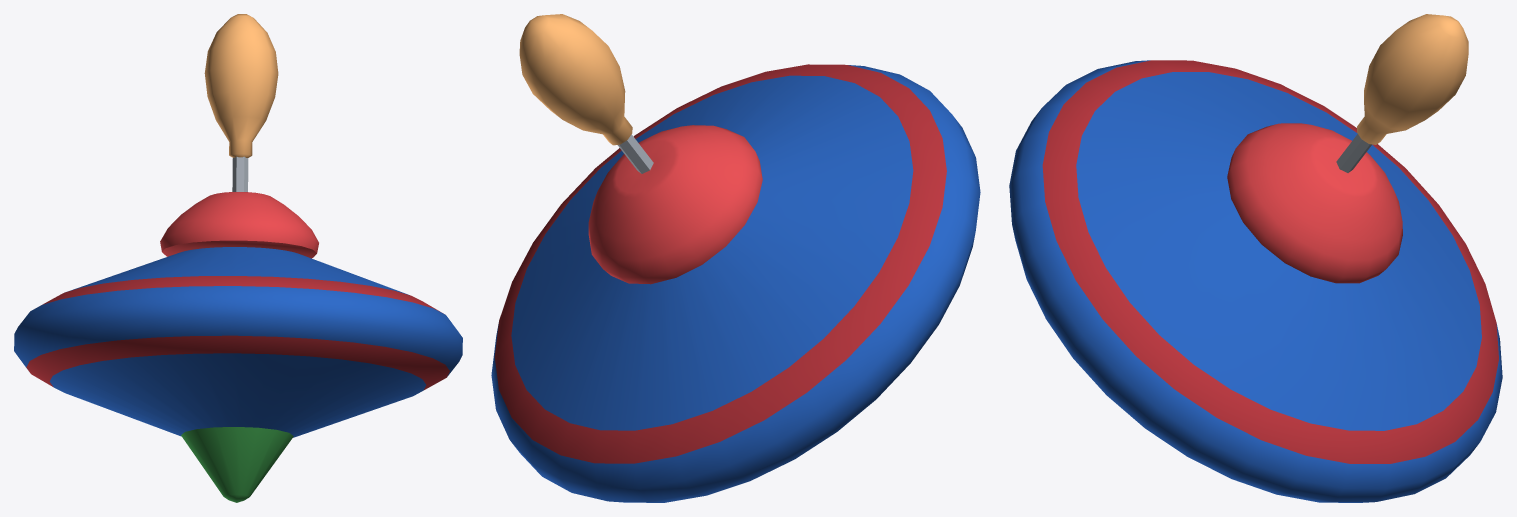
The model's file is brinquedo_piao_pacote.glb.
3 views of the same model, side by side, from view 1: azimuth 30°, elevation 25°; view 2: azimuth 150°, elevation 25°; view 3: azimuth 270°, elevation 25° (orthographic). The views are drawn at different scales.
Visible parts, largest first — view 1: brinquedo_piao_pacote; view 2: brinquedo_piao_pacote; view 3: brinquedo_piao_pacote.
Boxes of the visible parts, bbox=[...] form: brinquedo_piao_pacote: bbox=[14, 14, 462, 502]; brinquedo_piao_pacote: bbox=[491, 14, 980, 502]; brinquedo_piao_pacote: bbox=[1009, 14, 1502, 502].
Size of the model in its own units: 0.2877 by 0.2788 by 0.2666.
Materials: 1 (1 with a texture image).
